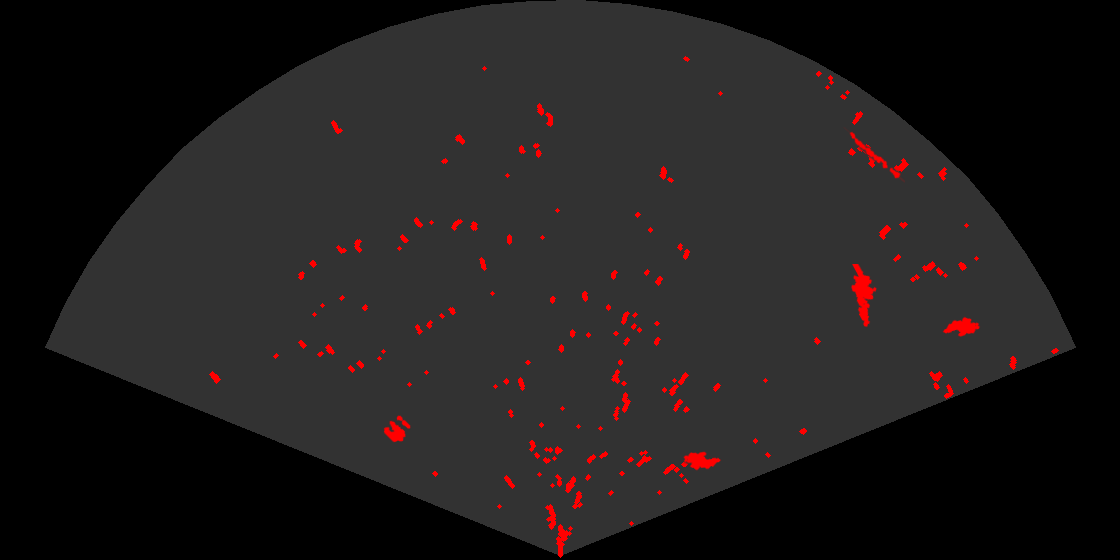AUV: (941, 315, 982, 338), (682, 450, 723, 472)
ball: (382, 414, 412, 444)
chain: (842, 127, 905, 184)
frogman: (850, 264, 878, 329)
